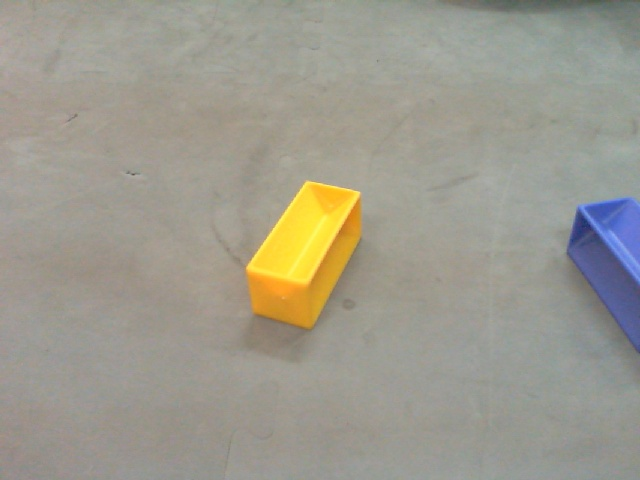BlueSample: (568, 192, 640, 352)
YellowSample: (243, 180, 369, 335)
